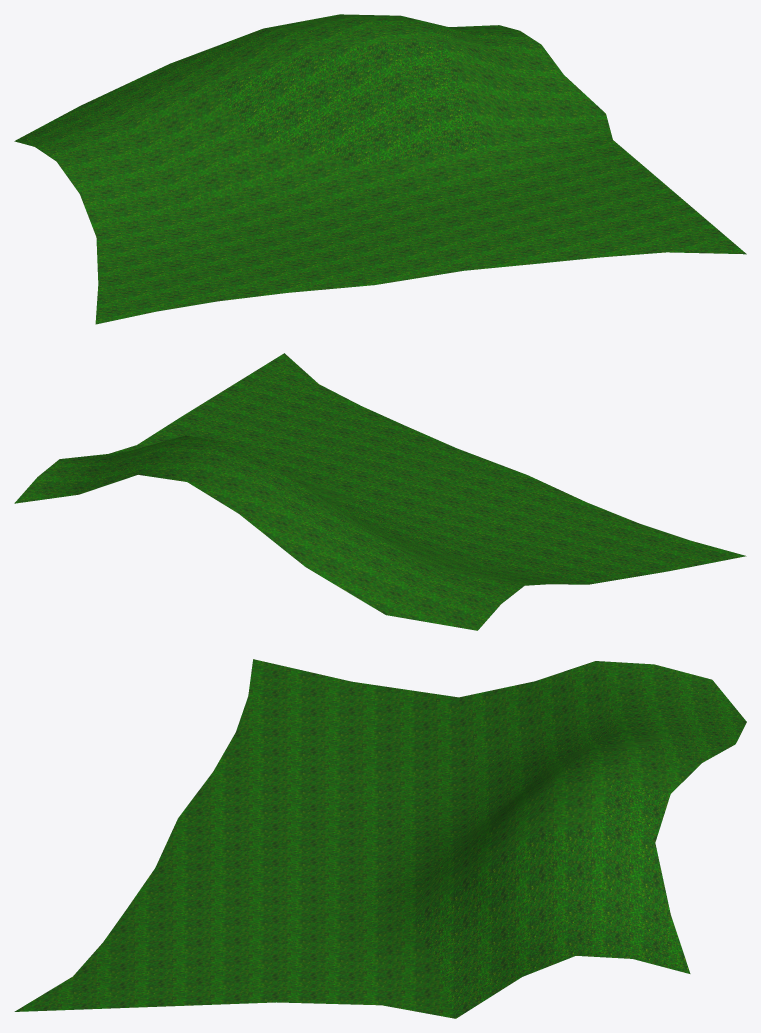
The model's file is HTOWN01_PS04.fbx.
3 views of the same model, one above another, from view 1: azimuth 30°, elevation 25°; view 2: azimuth 150°, elevation 25°; view 3: azimuth 270°, elevation 25° (orthographic). The views are drawn at different scales.
Visible parts, largest first — view 1: HTOWN01_PS04; view 2: HTOWN01_PS04; view 3: HTOWN01_PS04.
Part boxes in pixels (<box>): HTOWN01_PS04: <box>14,14,746,324</box>; HTOWN01_PS04: <box>14,353,746,630</box>; HTOWN01_PS04: <box>14,659,746,1018</box>.
Bounding box in the file's own units: 481224 × 82209 × 399646.
Materials: 1 (1 with a texture image).
